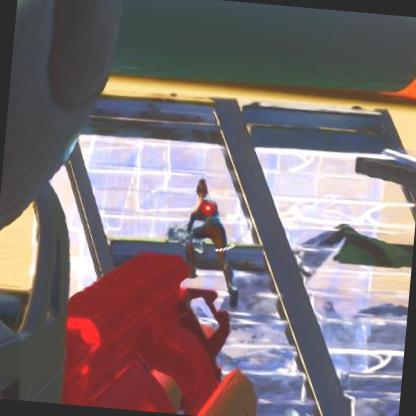person: (177, 181, 243, 296)
